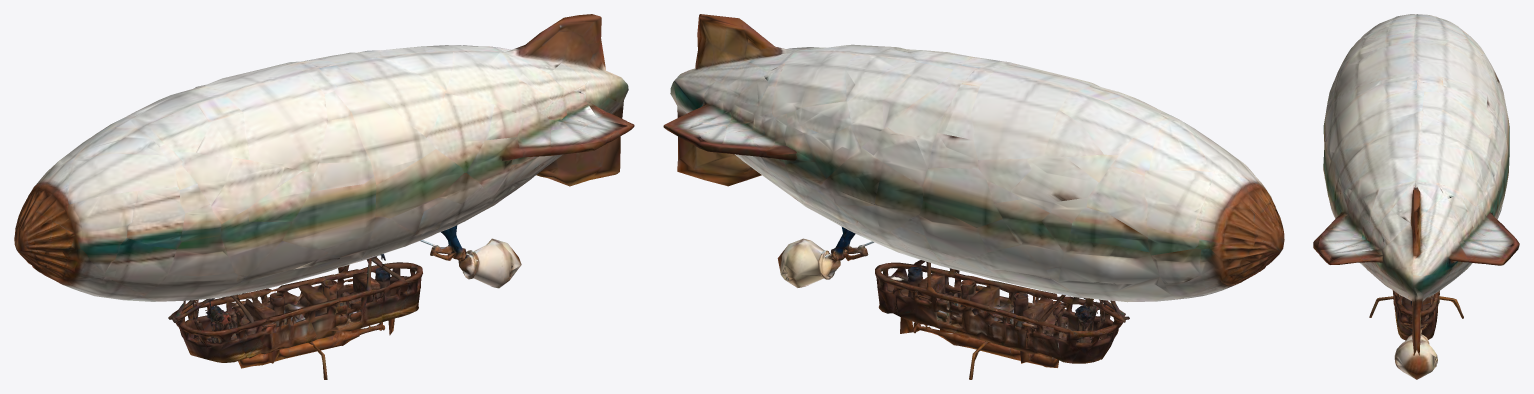
The model's file is airplane-optimized.glb.
3 renders of one model, left to right at view 1: azimuth 30°, elevation 25°; view 2: azimuth 150°, elevation 25°; view 3: azimuth 270°, elevation 25°, orthographic. The views are drawn at different scales.
Visible parts, largest first — view 1: Mesh_0; view 2: Mesh_0; view 3: Mesh_0.
Part boxes in pixels (box(x1,y1,x2,y2)): Mesh_0: box(14, 14, 634, 379); Mesh_0: box(663, 14, 1284, 379); Mesh_0: box(1313, 14, 1519, 379).
Bounding box in the file's own units: 39.85 × 17.92 × 13.63.
1 material, 1 textured.
